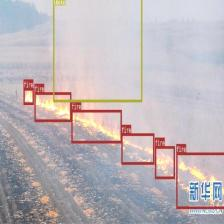fire: (175, 152, 224, 208), (71, 110, 121, 142), (34, 92, 71, 122), (121, 133, 154, 164), (154, 146, 174, 179), (23, 88, 34, 104)
smoke: (53, 0, 142, 102)
